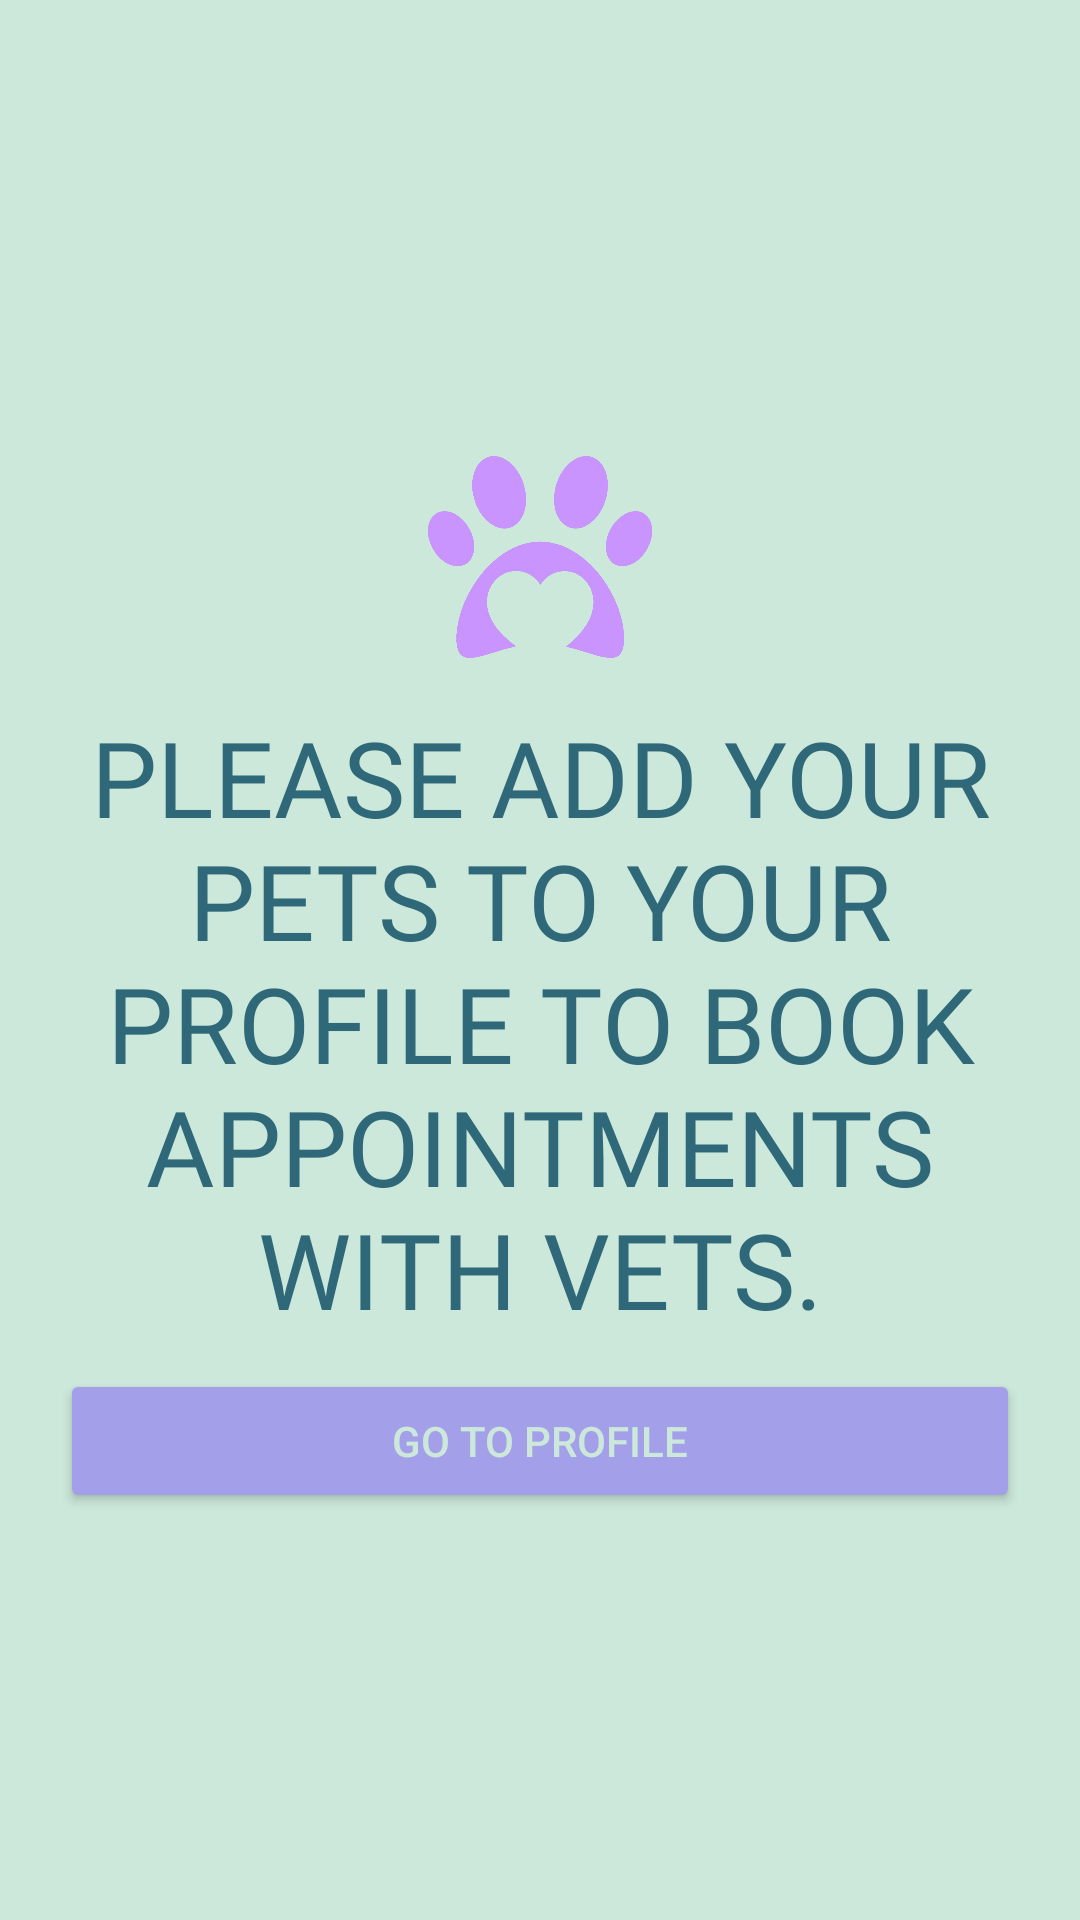

Icon bounding boxes for this 1080px x 1920px phone screenshot, format (x1, y1, x2, y2):
paw: (428, 456, 652, 658)
